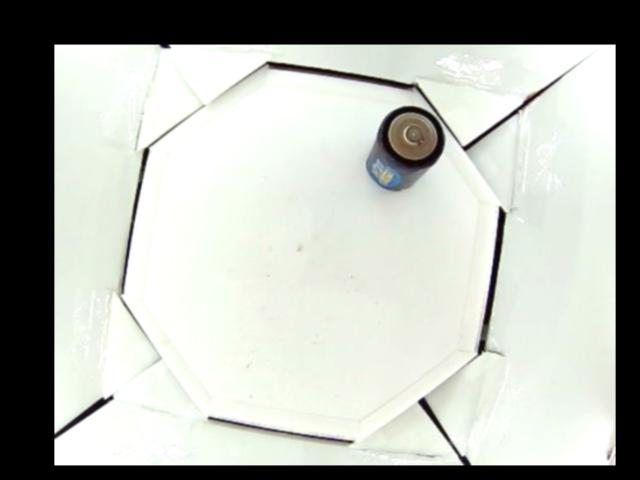Battery: (365, 105, 447, 190)
